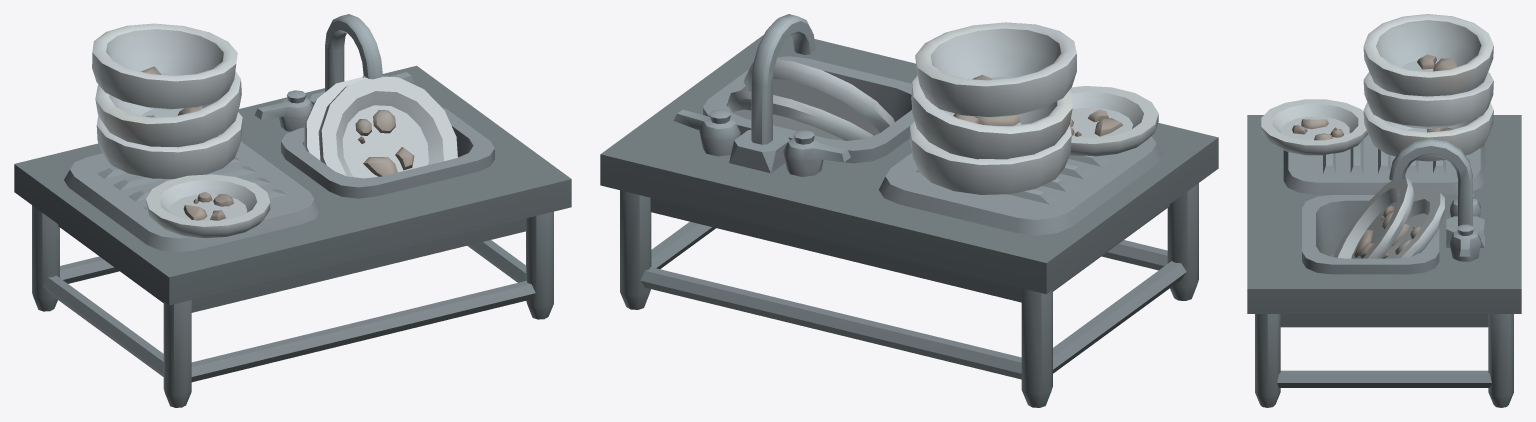
The model's file is kay-mesa-pia.gltf.
3 views of the same model, side by side, from view 1: azimuth 30°, elevation 25°; view 2: azimuth 150°, elevation 25°; view 3: azimuth 270°, elevation 25° (orthographic). The views are drawn at different scales.
Parts seen in each view (by area): view 1: kitchentable_sink_large_decorated; view 2: kitchentable_sink_large_decorated; view 3: kitchentable_sink_large_decorated.
Part boxes in pixels (bbox=[...]): kitchentable_sink_large_decorated: bbox=[14, 14, 571, 407]; kitchentable_sink_large_decorated: bbox=[600, 14, 1218, 407]; kitchentable_sink_large_decorated: bbox=[1247, 14, 1521, 407].
Bounding box in the file's own units: 1.95 × 1.27 × 1.3.
Materials: 1 (1 with a texture image).
